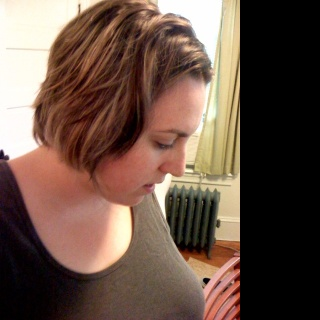without_mask: (99, 71, 207, 210)
